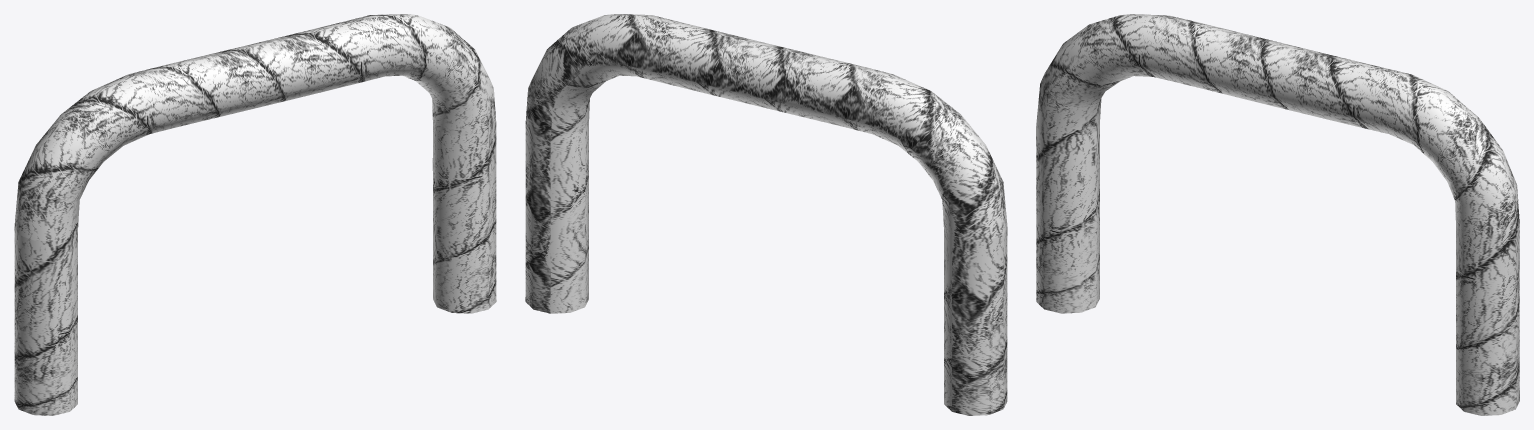
The model's file is Rope1x1.fbx.
The picture shows the model from 3 angles, left to right: view 1: azimuth 30°, elevation 25°; view 2: azimuth 150°, elevation 25°; view 3: azimuth 330°, elevation 25°; orthographic projection.
Parts seen in each view (by area): view 1: Rope_cut_Path, Rope; view 2: Rope_cut_Path, Rope; view 3: Rope_cut_Path, Rope.
Part boxes in pixels (box(x1,y1,x2,y2)): Rope_cut_Path: box(14, 14, 496, 241); Rope: box(14, 122, 496, 415); Rope_cut_Path: box(525, 14, 1007, 241); Rope: box(525, 122, 1007, 415); Rope_cut_Path: box(1036, 14, 1519, 237); Rope: box(1036, 124, 1519, 415).
Size of the model in its own units: 0.5141 by 0.3163 by 0.0576.
Materials: 1 (1 with a texture image).
